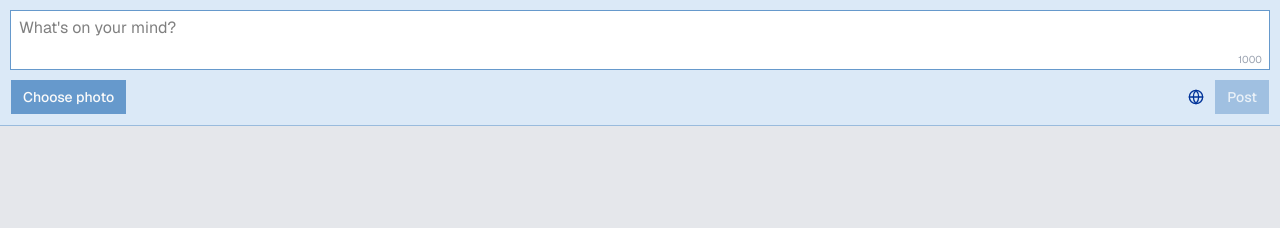
Scenario: PostComposer @mention autocomplete › shows all friends after @ and filters by username
The image size is (1280, 228).
Type "@" into the dropdown with placeholder "What's on your mind?" at (640,40), box [10,10,1270,70]
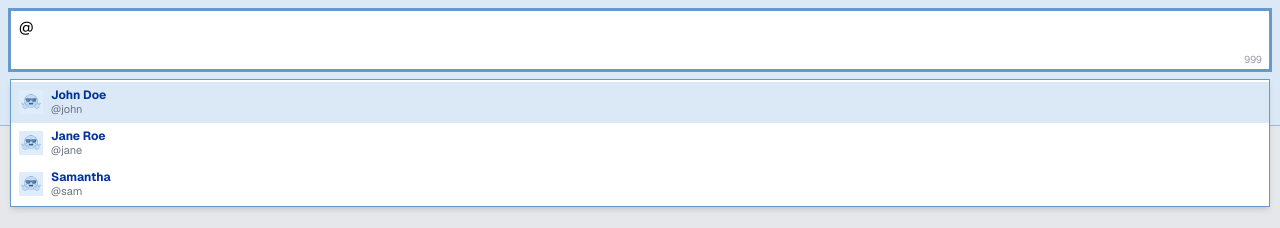
Result: the list is shown at [10,79,1270,207]
Result: the number of options is 3 at [11,82,1269,123]; [11,123,1269,164]; [11,164,1269,204]
Type "ja" into the dropdown with placeholder "What's on your mind?" at (640,40), box [10,10,1270,70]
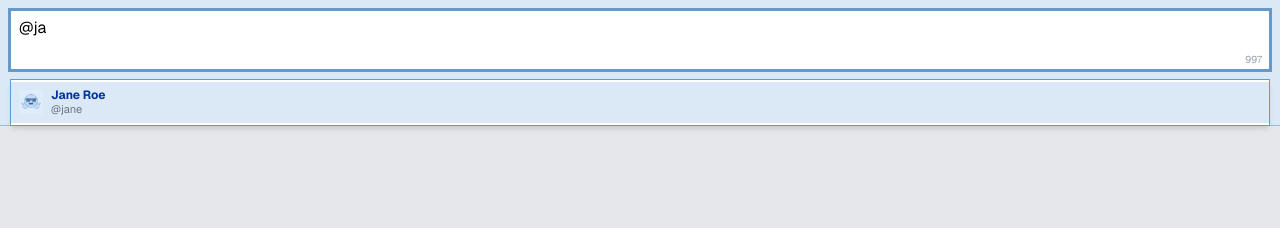
Result: the option shows "Jane Roe" at [11,82,1269,123]
Result: the option shows "@jane" at [11,82,1269,123]
Result: the number of options is 1 at [11,82,1269,123]
